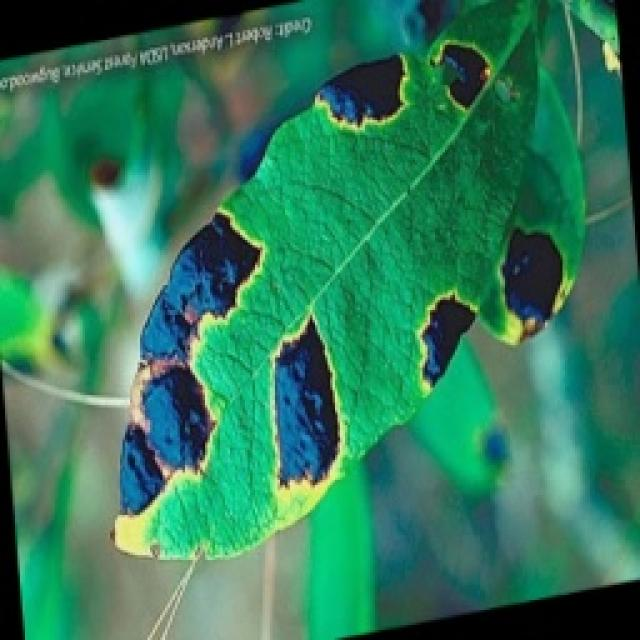Tar_Spot: (108, 62, 558, 530)
